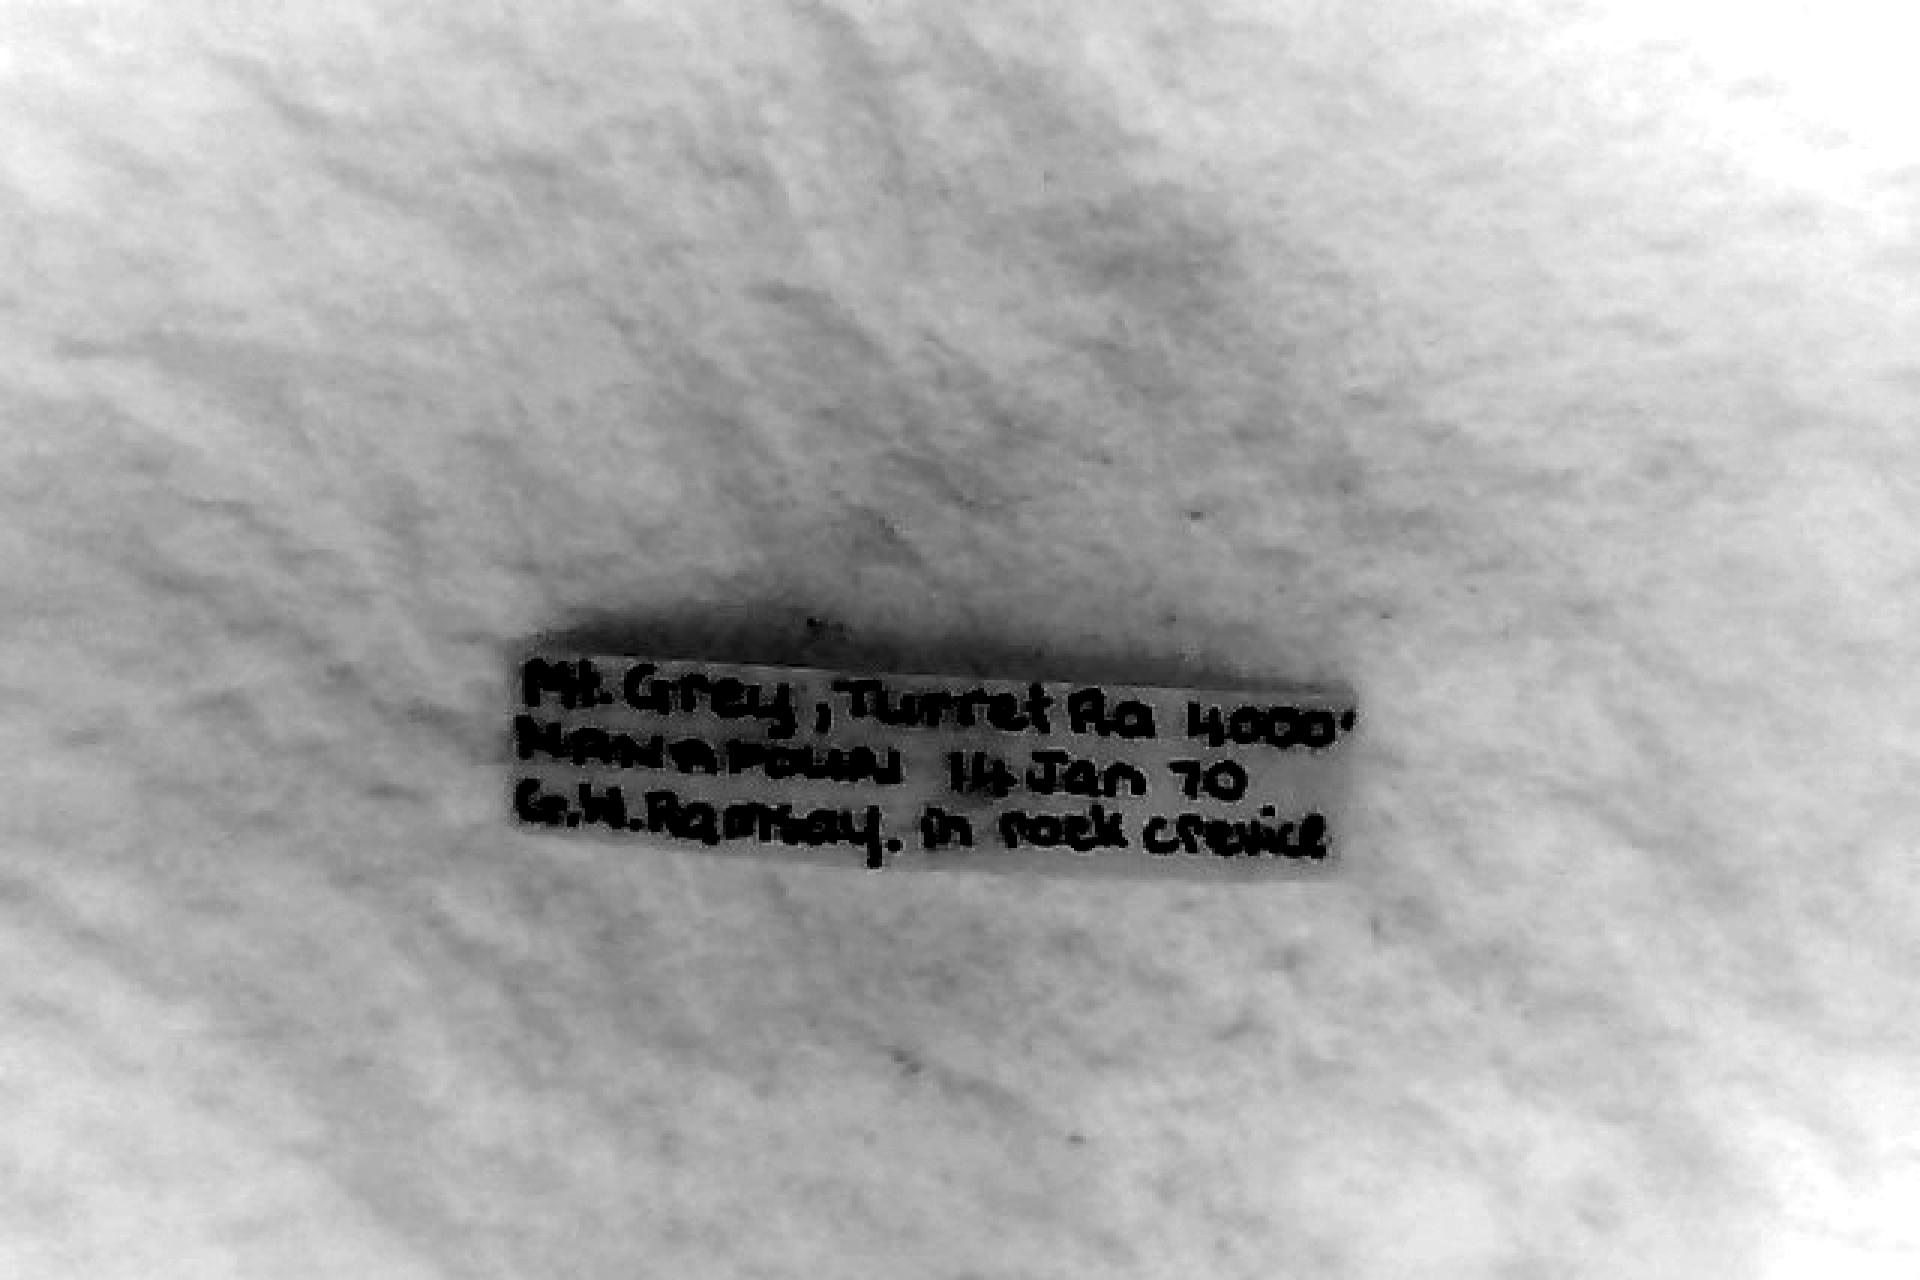hand_label: (510, 650, 1354, 875)
